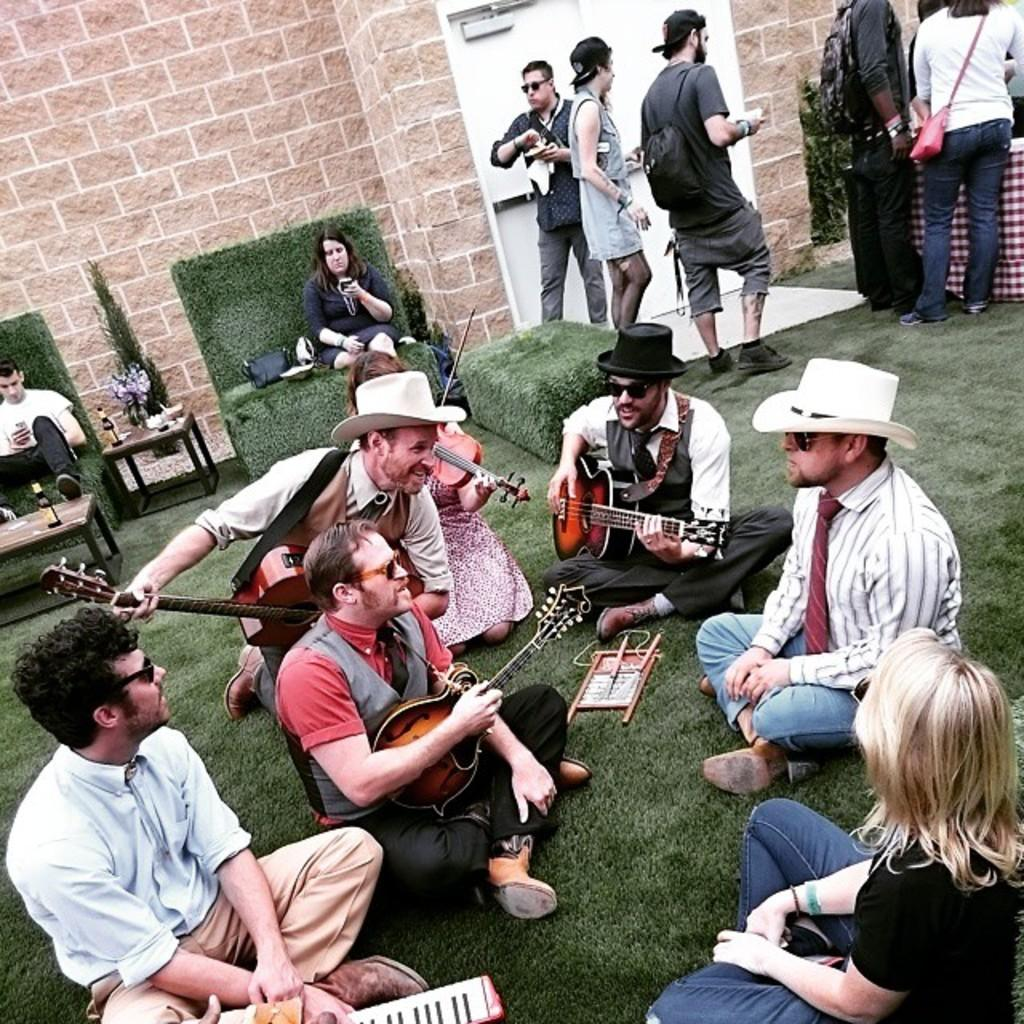Hat: (749, 352, 915, 454), (331, 366, 465, 448), (595, 316, 691, 386), (650, 0, 704, 54)
